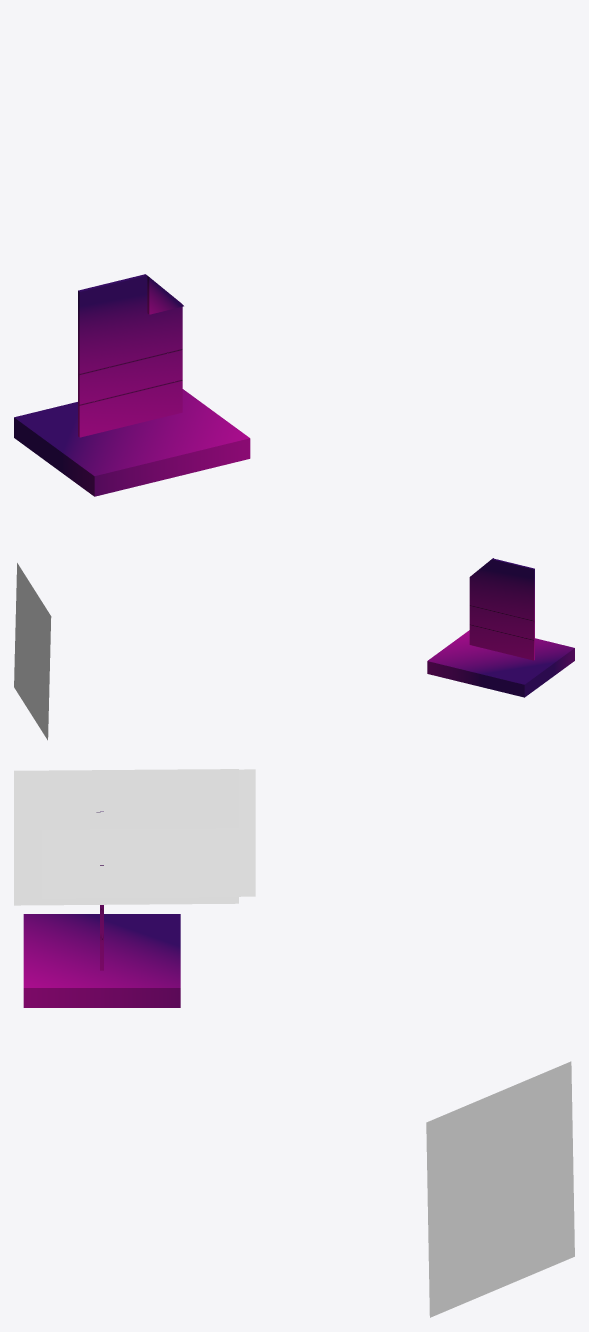
Rendered from 6_EXCELL.glb.
3 renders of one model, top to bottom at view 1: azimuth 30°, elevation 25°; view 2: azimuth 150°, elevation 25°; view 3: azimuth 270°, elevation 25°, orthographic. The views are drawn at different scales.
Parts seen in each view (by area): view 1: Cubo.005, Cubo.001, Cubo.006; view 2: Cubo.005, Cubo.001, Plano.003; view 3: Plano.003, Plano.004, Plano, Cubo.001.
Part boxes in pixels (box(x1,y1,x2,y2)): Cubo.005: box(78, 274, 182, 437); Cubo.001: box(14, 389, 250, 496); Cubo.006: box(147, 276, 183, 314); Cubo.005: box(469, 558, 534, 660); Cubo.001: box(427, 630, 574, 697); Plano.003: box(14, 563, 51, 740); Plano.003: box(426, 1061, 574, 1317); Plano.004: box(14, 769, 238, 905); Plano: box(42, 769, 255, 898); Cubo.001: box(23, 914, 180, 1007).
Bounding box in the file's own units: 7.91 × 2.85 × 5.72.
3 materials, 3 textured.
